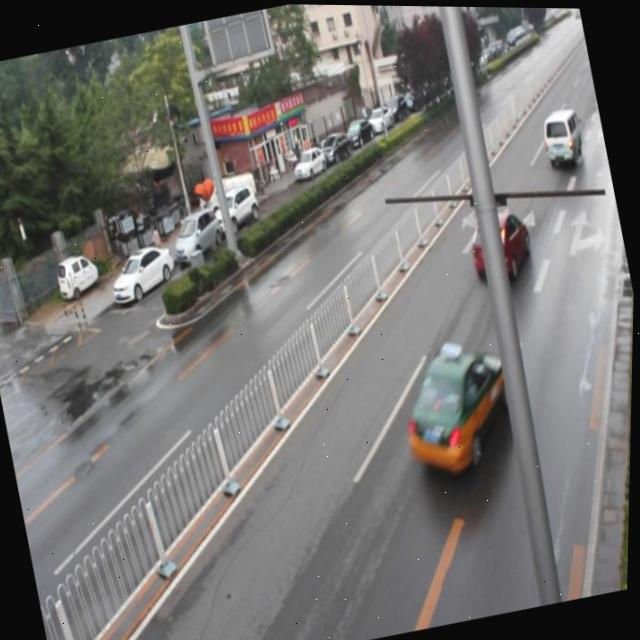car: (392, 330, 522, 480), (464, 202, 538, 285)
truck: (536, 102, 588, 167)
